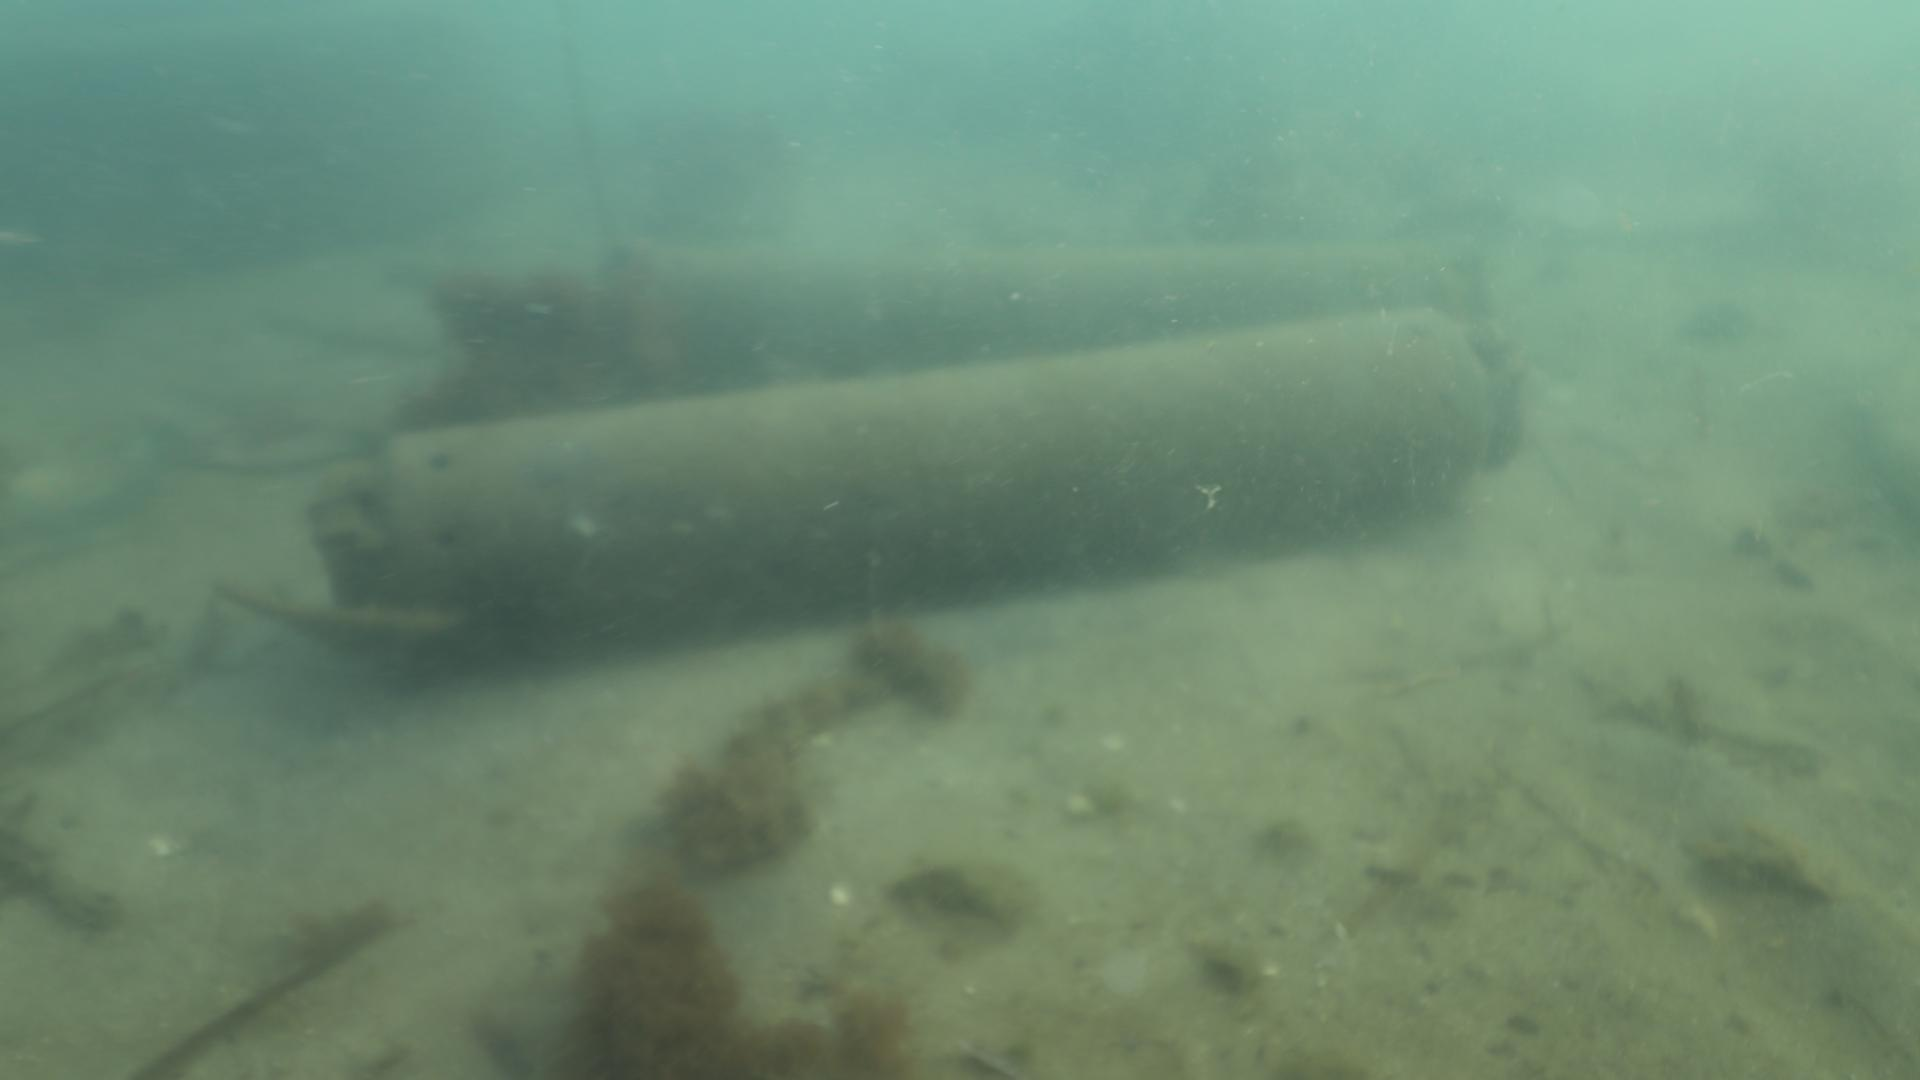eel fish trap: (313, 316, 1522, 645)
